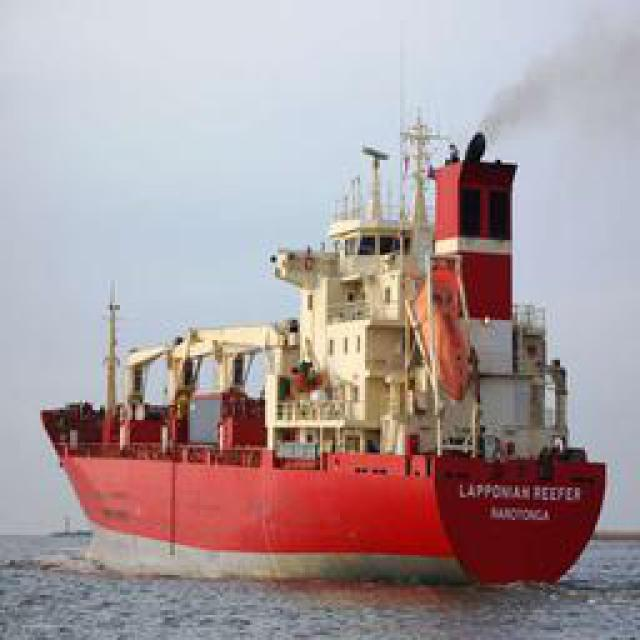Ship: (44, 70, 627, 595)
